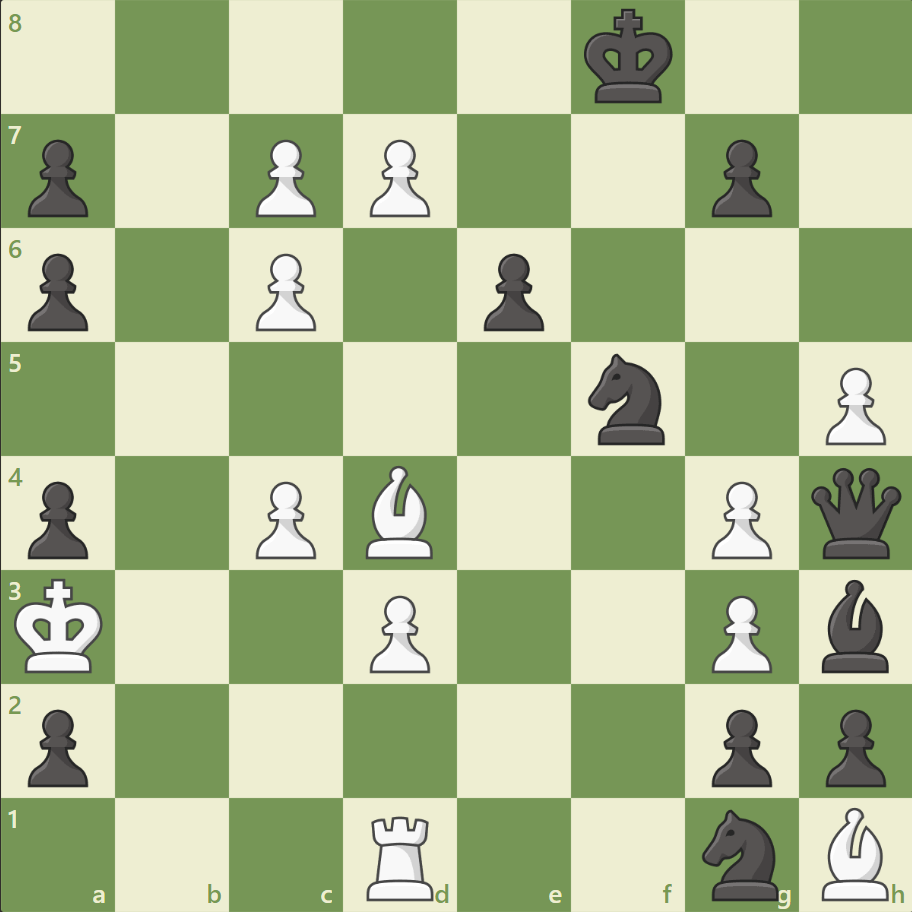B: (358, 460, 442, 563), (812, 801, 896, 904)
K: (11, 571, 111, 679)
P: (247, 132, 322, 223), (247, 246, 322, 337), (247, 473, 322, 564), (701, 473, 776, 564), (701, 586, 776, 677), (361, 132, 435, 223), (815, 359, 889, 450), (361, 586, 435, 677)
R: (360, 806, 442, 904)
b: (812, 574, 896, 676)
k: (579, 4, 679, 112)
n: (579, 348, 676, 450), (692, 802, 789, 904)
p: (20, 132, 95, 223), (701, 132, 776, 223), (20, 246, 95, 337), (474, 246, 549, 337), (20, 473, 95, 564), (20, 700, 95, 791), (701, 700, 776, 791), (815, 700, 889, 791)
q: (805, 463, 904, 562)
